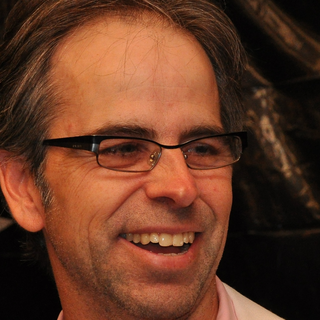eye: (99, 134, 144, 165), (184, 139, 220, 162)
